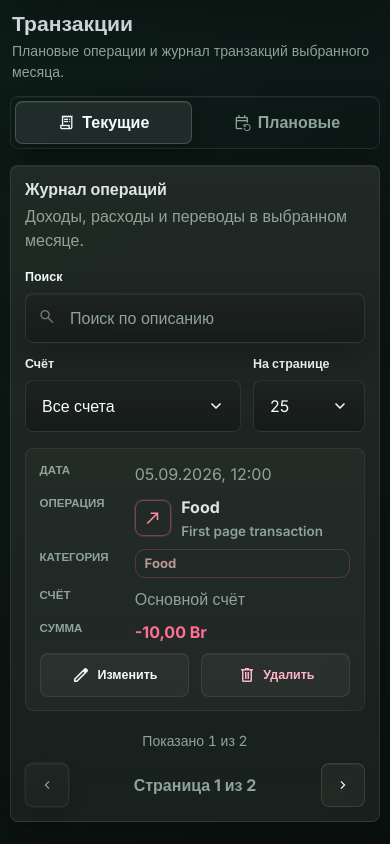
Test case: HomePageComponent › loads the next backend transaction page from the overview pagination
The image size is (390, 844).
(page scrolled)
Click the button with test id "next-transactions-page".
click(343, 785)  # box x1=321 y1=763 x2=365 y2=807
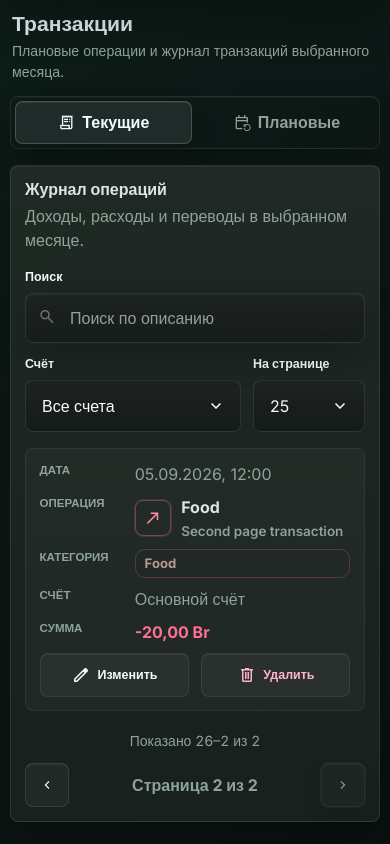
Expected: the text "Страница 2 из 2" is shown, x1=132 y1=775 x2=258 y2=795
Click the button with test id "previous-transactions-page".
click(47, 785)  # box x1=25 y1=763 x2=69 y2=807
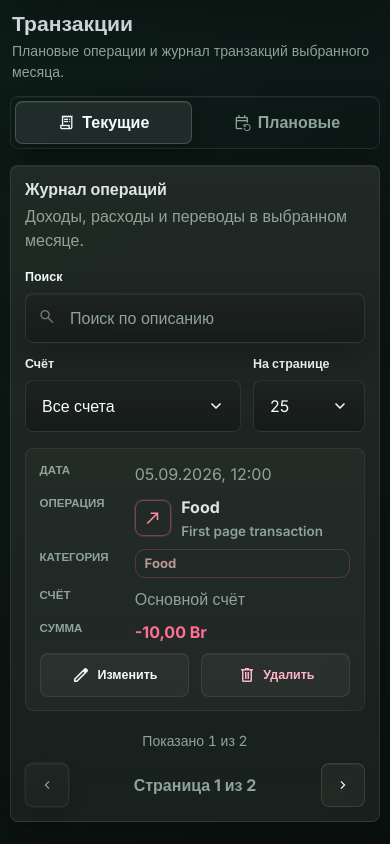
Expected: the text "Страница 1 из 2" is shown, x1=134 y1=775 x2=256 y2=795
